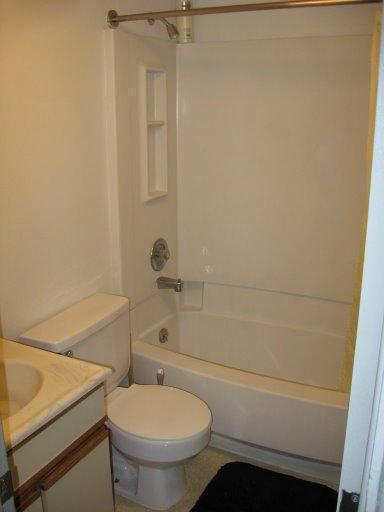Ducha: (107, 8, 221, 354)
Sanitario: (38, 293, 212, 495)
